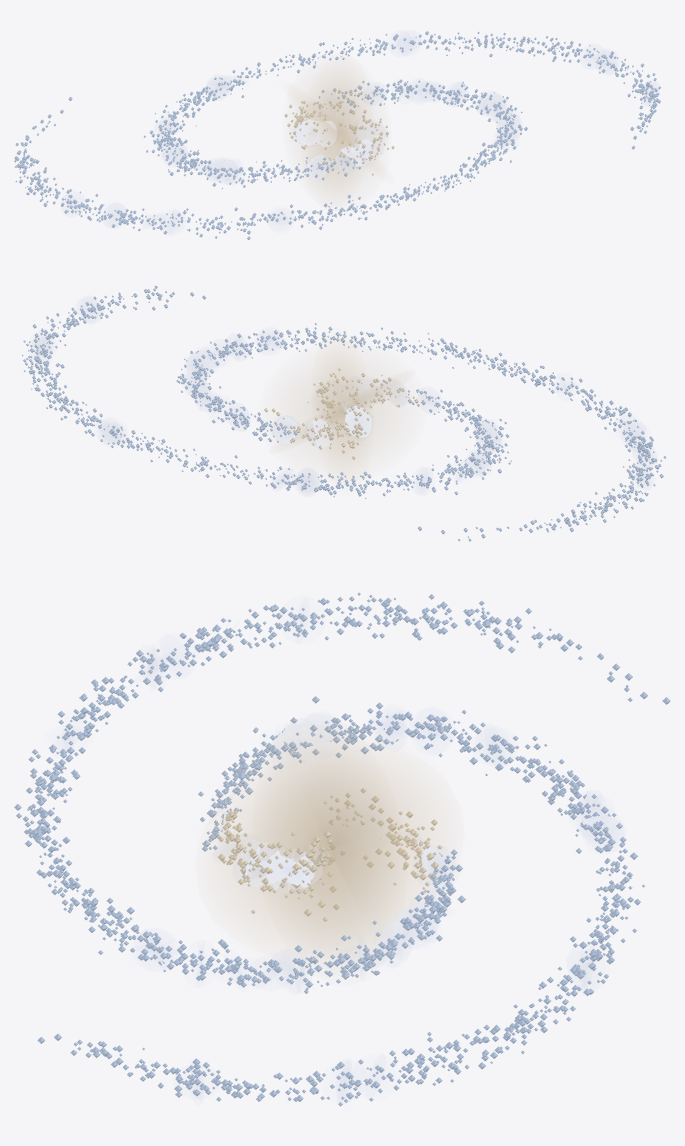
The picture shows the model from 3 angles, top to bottom: view 1: azimuth 30°, elevation 25°; view 2: azimuth 150°, elevation 25°; view 3: azimuth 270°, elevation 25°; orthographic projection. The views are drawn at different scales.
Bounding box in the file's own units: 7.14 × 1.78 × 3.94.
